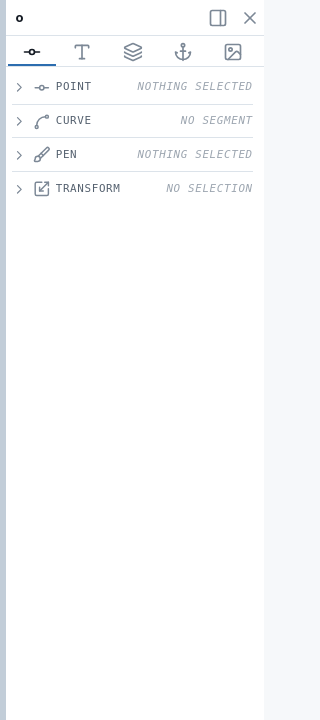
Test case: the inspector's tabs › shows one at a time, the selection's to begin with
Expected: the button "Point nothing selected" is shown, [12,77,253,98]
Expected: the button "Layers" is not shown
Click the tab named "Layers": click(132, 53) [109,40,156,66]
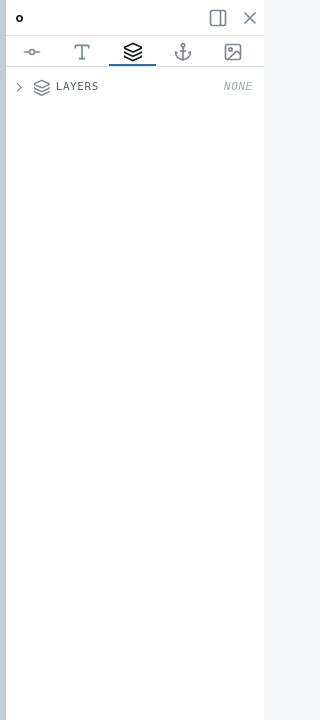
Now the button "Layers none" is shown, box [12,77,253,98]
Now the button "Point" is gone
